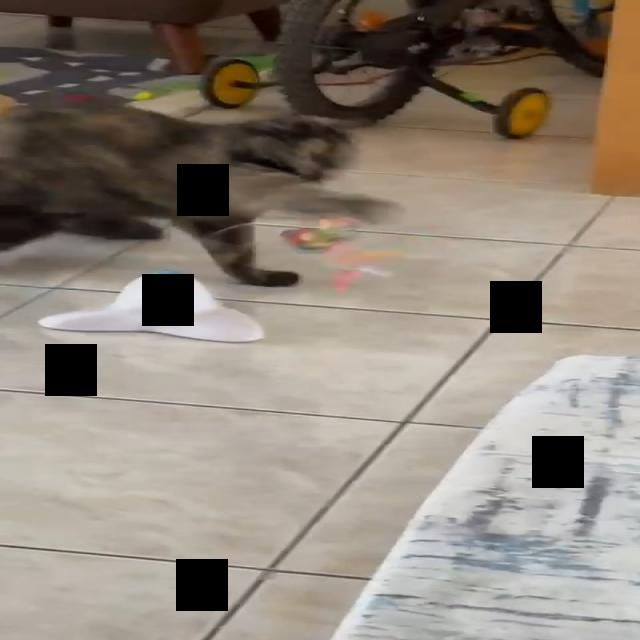authorized: (0, 95, 404, 288)
